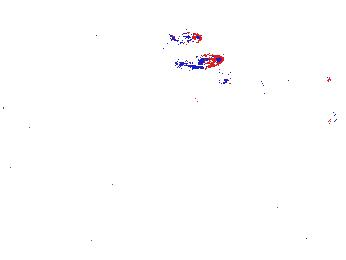X-ray fish: (122, 15, 161, 60), (36, 96, 77, 133)
red belly glassfish: (177, 53, 228, 71), (168, 30, 205, 46)
redtail glassfish: (218, 60, 299, 88), (254, 67, 301, 98), (321, 107, 346, 135), (323, 65, 346, 91)
